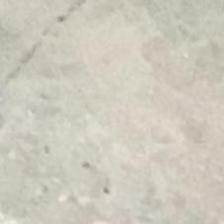Non_Crack: (6, 6, 223, 224)
